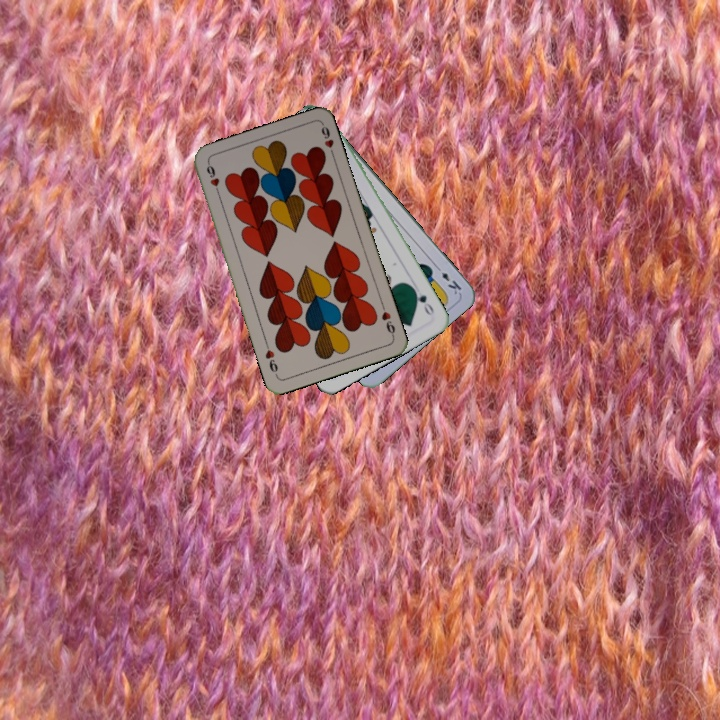EK: (431, 261, 464, 297)
GO: (408, 283, 436, 318)
H9: (377, 300, 398, 340), (202, 159, 223, 199)
